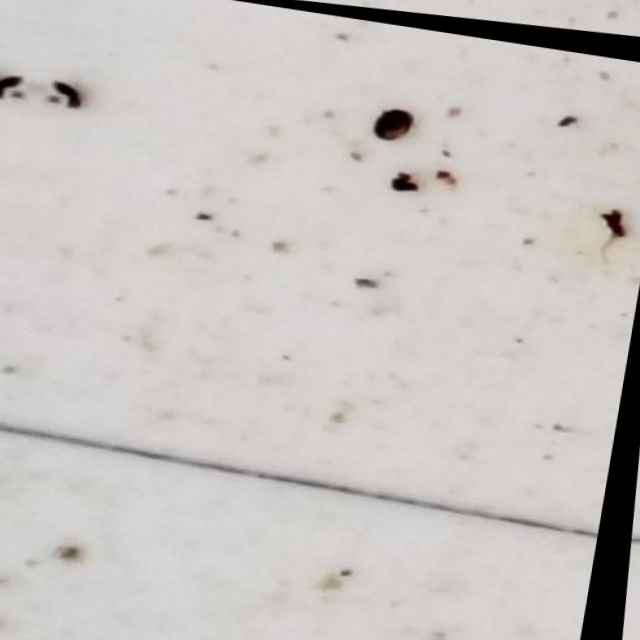varroa: (372, 100, 418, 145)
